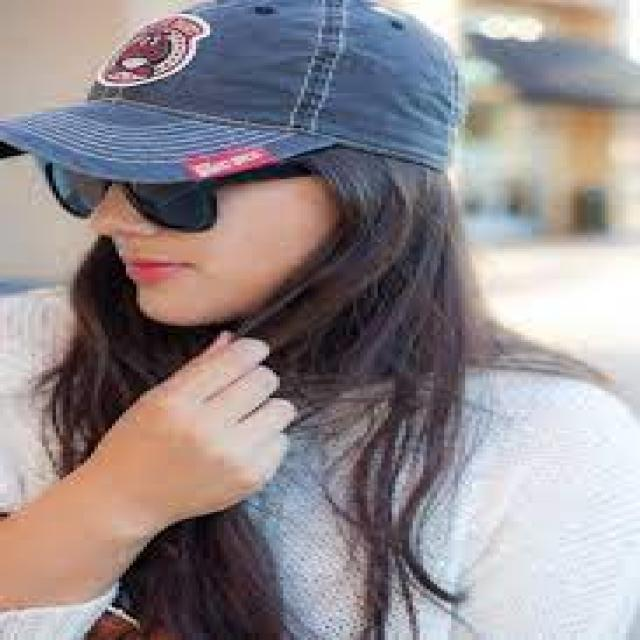cap: (6, 0, 510, 229)
